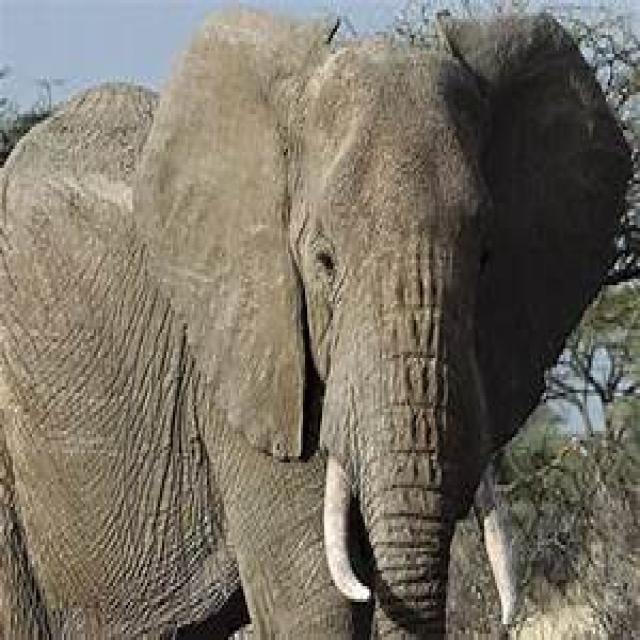elephant: (0, 10, 640, 640)
